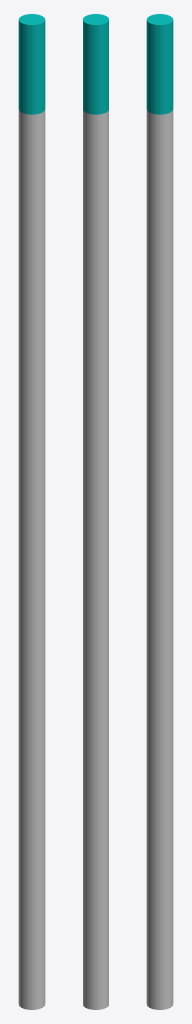
File: 008F86fixed.glb
3 views of the same model, side by side, from view 1: azimuth 90°, elevation 25°; view 2: azimuth 150°, elevation 25°; view 3: azimuth 270°, elevation 25° (orthographic).
Parts seen in each view (by area): view 1: Long_Electrode_Body, Long_Electrode_Tip; view 2: Long_Electrode_Body, Long_Electrode_Tip; view 3: Long_Electrode_Body, Long_Electrode_Tip.
Boxes of the visible parts, left/top/right/bottom form: Long_Electrode_Body: left=18, top=109, right=45, bottom=1009; Long_Electrode_Tip: left=18, top=14, right=45, bottom=114; Long_Electrode_Body: left=83, top=110, right=108, bottom=1009; Long_Electrode_Tip: left=83, top=14, right=108, bottom=114; Long_Electrode_Body: left=146, top=109, right=173, bottom=1009; Long_Electrode_Tip: left=146, top=14, right=173, bottom=114.
Size of the model in its own units: 0.4 by 16.5 by 0.4.
